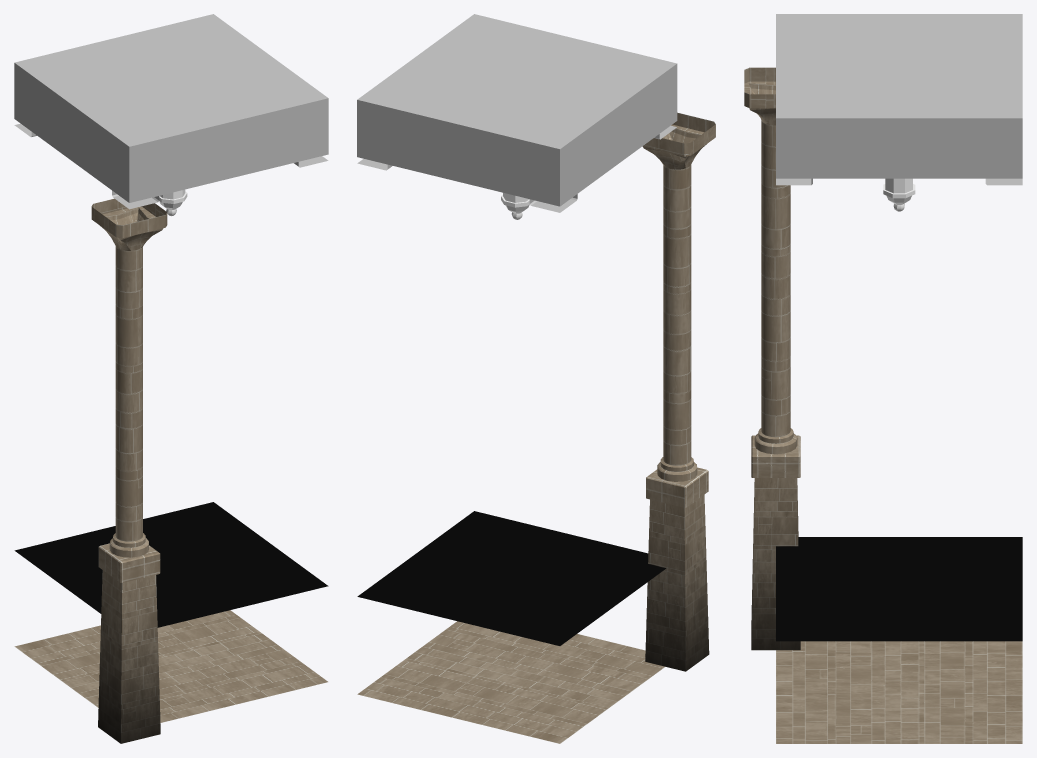
File: SceneryB.fbx
The picture shows the model from 3 angles, left to right: view 1: azimuth 30°, elevation 25°; view 2: azimuth 150°, elevation 25°; view 3: azimuth 270°, elevation 25°; orthographic projection. The views are drawn at different scales.
Visible parts, largest first — view 1: Ceiling, Column, Fog, PitFloor; view 2: Ceiling, Fog, Column, PitFloor; view 3: Ceiling, Fog, PitFloor, Column, Lantern.
Boxes of the visible parts, <box> form: Ceiling: <box>14,14,328,209</box>; Column: <box>91,198,167,743</box>; Fog: <box>14,502,328,627</box>; PitFloor: <box>14,610,327,722</box>; Ceiling: <box>357,14,677,212</box>; Fog: <box>357,511,665,645</box>; Column: <box>642,112,715,671</box>; PitFloor: <box>357,621,665,743</box>; Ceiling: <box>776,14,1022,185</box>; Fog: <box>776,537,1022,641</box>; PitFloor: <box>776,641,1022,743</box>; Column: <box>744,67,800,650</box>; Lantern: <box>883,178,915,211</box>.
Bounding box in the file's own units: 564 × 1400 × 564.
